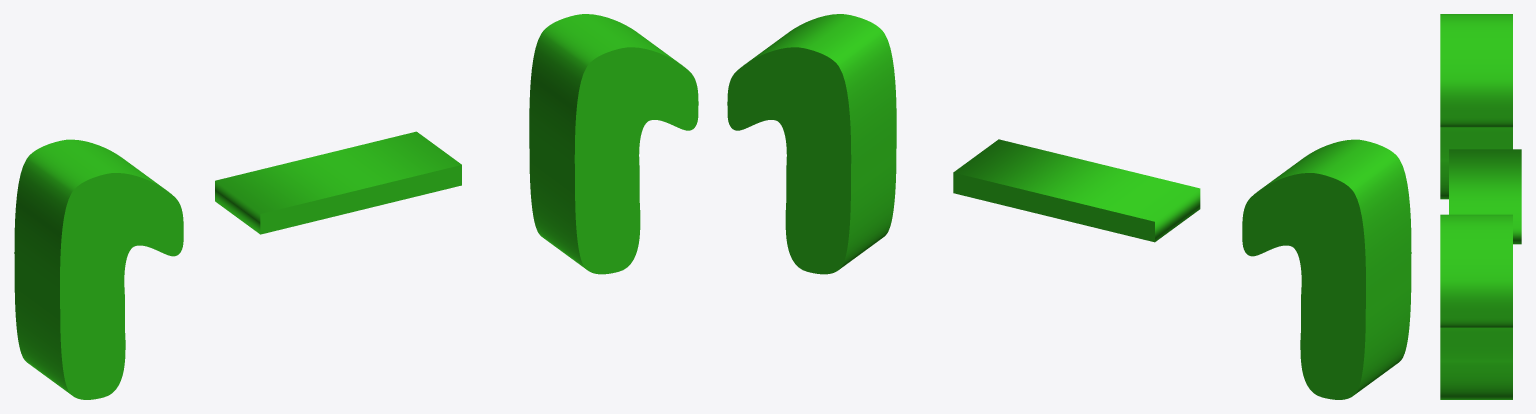
The picture shows the model from 3 angles, left to right: view 1: azimuth 30°, elevation 25°; view 2: azimuth 150°, elevation 25°; view 3: azimuth 270°, elevation 25°; orthographic projection. The views are drawn at different scales.
Parts seen in each view (by area): view 1: テキスト, テキスト.001; view 2: テキスト, テキスト.001; view 3: テキスト, テキスト.001.
Boxes of the visible parts, bbox=[...] form: テキスト: bbox=[14, 14, 698, 399]; テキスト.001: bbox=[215, 131, 461, 234]; テキスト: bbox=[727, 14, 1411, 399]; テキスト.001: bbox=[953, 139, 1200, 242]; テキスト: bbox=[1440, 14, 1512, 399]; テキスト.001: bbox=[1449, 149, 1521, 244].
Size of the model in its own units: 1.62 by 0.5407 by 0.2233.
